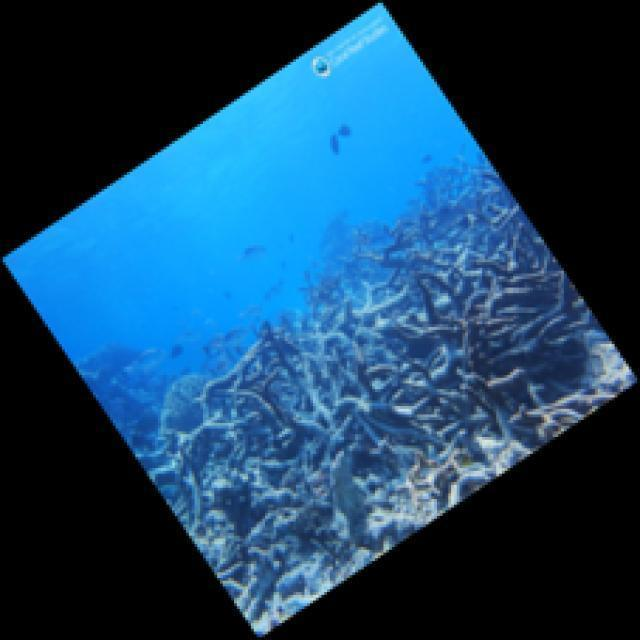Dead Coral: (224, 357, 450, 490), (396, 265, 577, 401)
